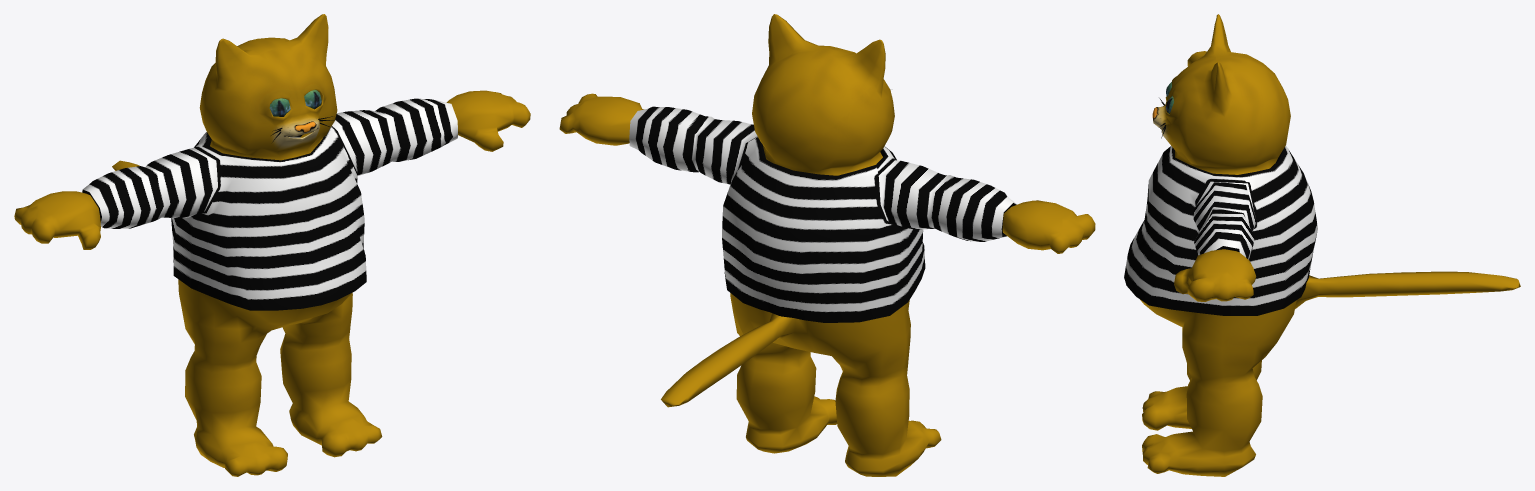
Rendered from CatPlaceholder.fbx.
The picture shows the model from 3 angles, left to right: view 1: azimuth 30°, elevation 25°; view 2: azimuth 150°, elevation 25°; view 3: azimuth 270°, elevation 25°; orthographic projection. The views are drawn at different scales.
Visible parts, largest first — view 1: polySurface23Shape; view 2: polySurface23Shape; view 3: polySurface23Shape.
Boxes of the visible parts, bbox=[...] form: polySurface23Shape: bbox=[14, 14, 530, 476]; polySurface23Shape: bbox=[559, 14, 1095, 476]; polySurface23Shape: bbox=[1124, 14, 1520, 476].
Size of the model in its own units: 131 by 105 by 93.1.
1 material, 1 textured.
